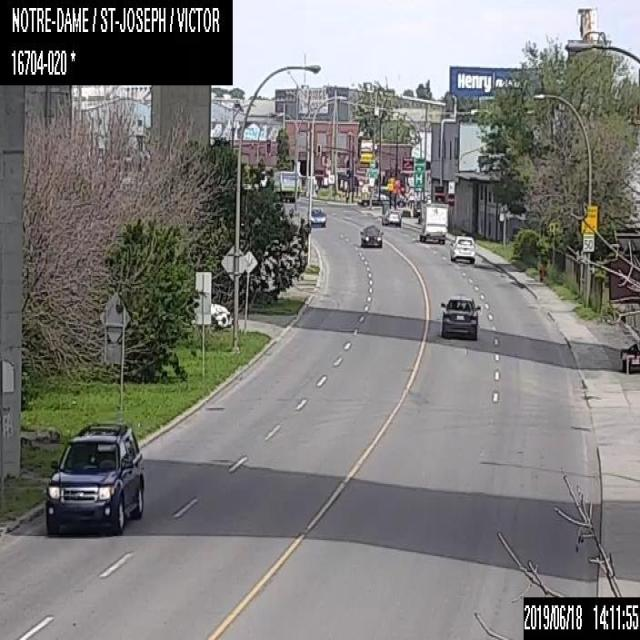construction: (609, 223, 639, 377)
vehicle: (43, 421, 145, 536), (440, 296, 481, 340), (418, 202, 448, 244), (272, 170, 298, 202), (449, 234, 475, 262), (359, 224, 383, 248), (307, 208, 326, 226), (382, 209, 400, 224)
